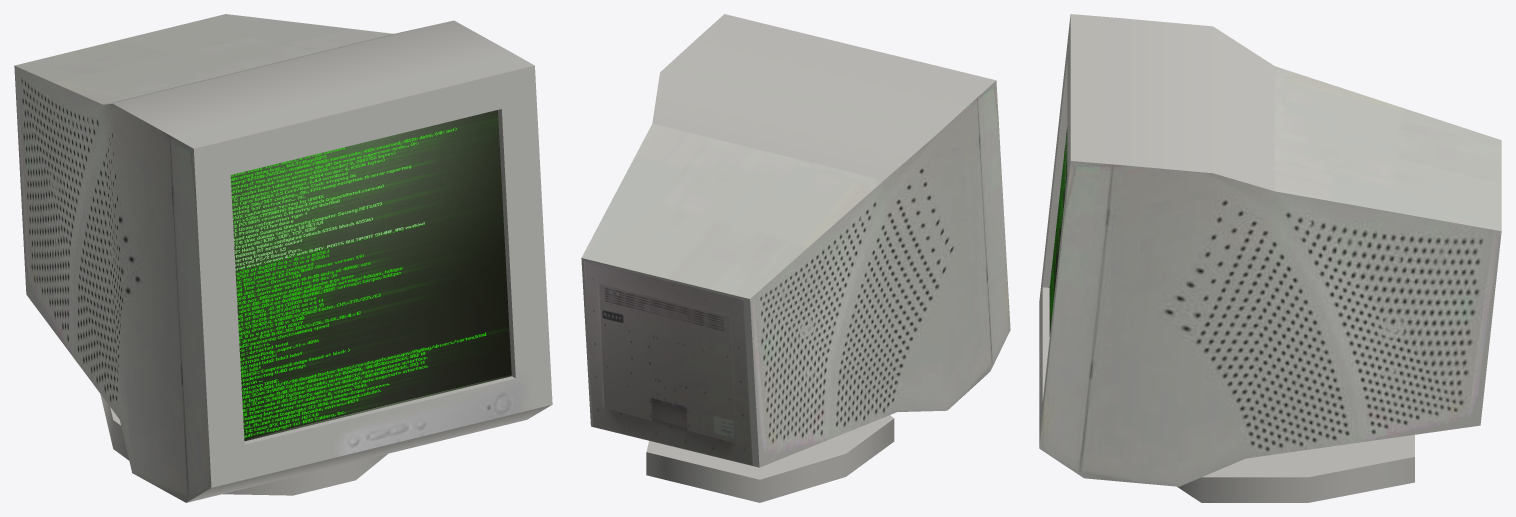
The model's file is monitor fat.fbx.
The picture shows the model from 3 angles, left to right: view 1: azimuth 30°, elevation 25°; view 2: azimuth 150°, elevation 25°; view 3: azimuth 270°, elevation 25°; orthographic projection. The views are drawn at different scales.
Visible parts, largest first — view 1: polySurface2, screen; view 2: polySurface2; view 3: polySurface2, screen.
Boxes of the visible parts, <box> form: polySurface2: <box>14,14,552,502</box>; screen: <box>230,110,511,441</box>; polySurface2: <box>581,14,1010,502</box>; polySurface2: <box>1039,14,1501,502</box>; screen: <box>1049,127,1067,336</box>.
Size of the model in its own units: 2 by 2.31 by 2.66.
